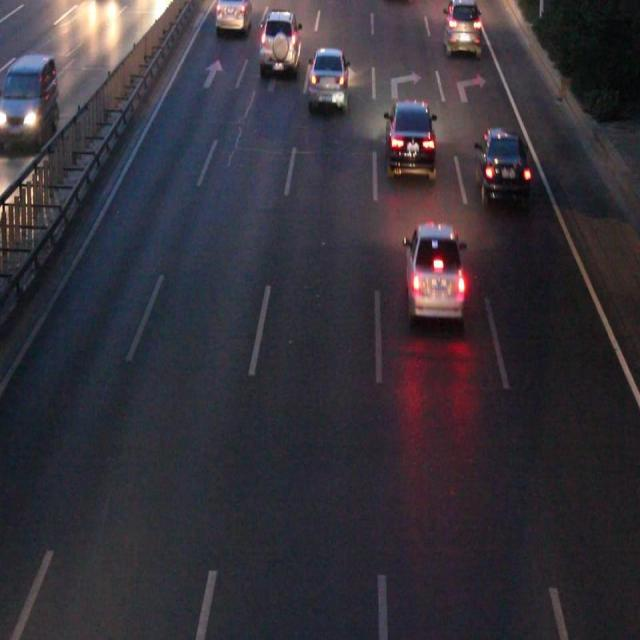car: (406, 226, 464, 317), (476, 132, 528, 202), (386, 101, 434, 173), (309, 51, 347, 108), (262, 13, 300, 69), (443, 1, 481, 51), (217, 1, 250, 31)
